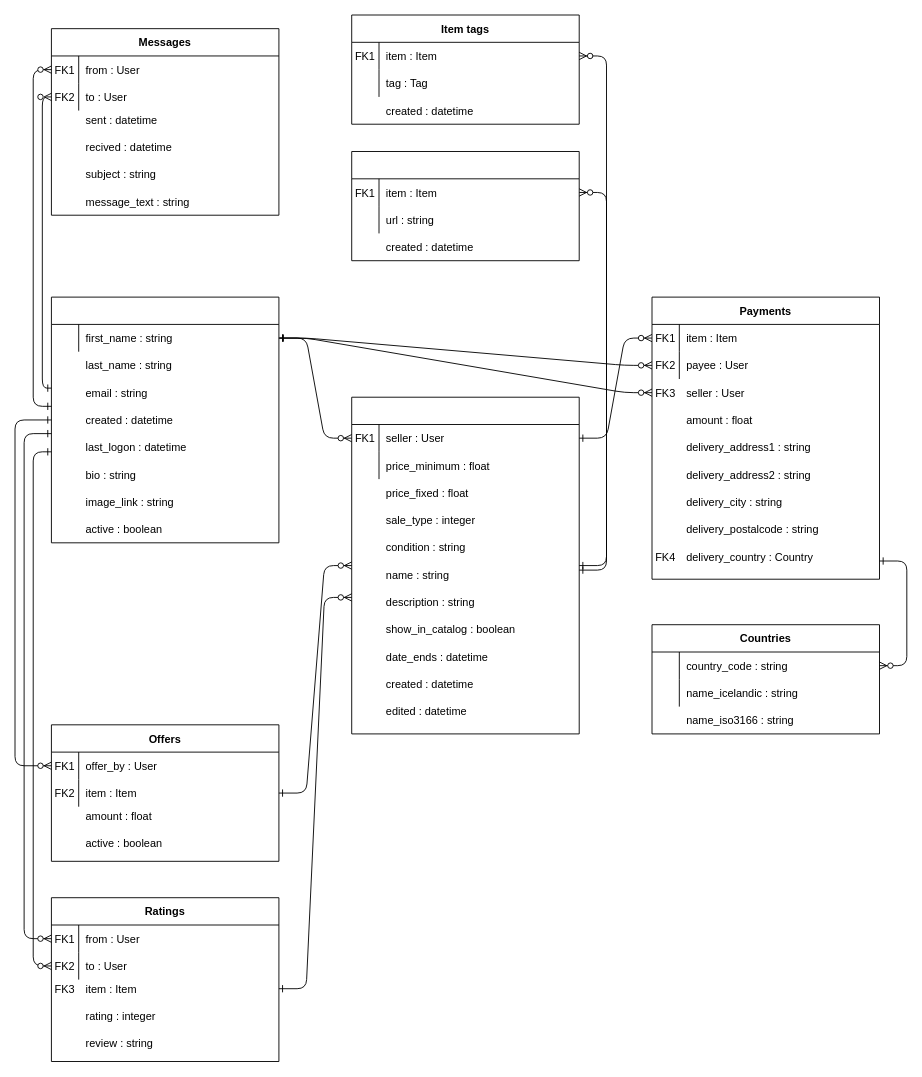
Image size: 922x1077. Some labels were removed from this diagram. Here are the shapes that lost their labels. From the top down, the box of each, then its label:
(351, 151, 579, 261): Item images
(51, 296, 279, 543): Users
(351, 396, 579, 734): Items
